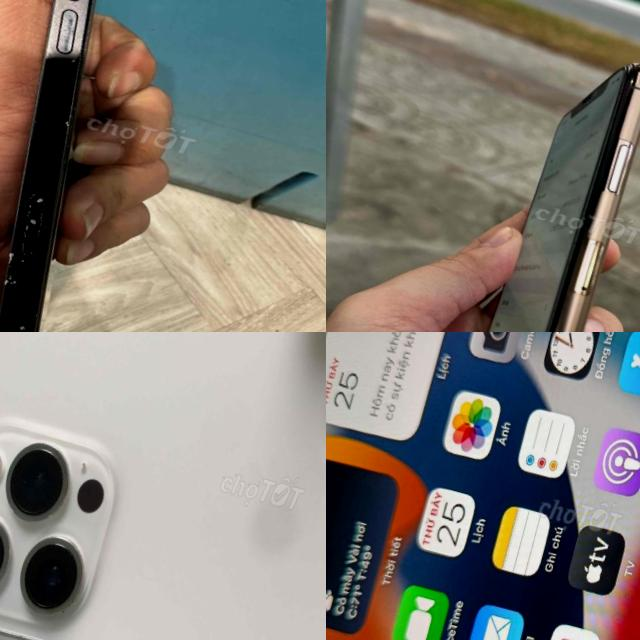scratch: (23, 0, 119, 182), (0, 174, 83, 332)
